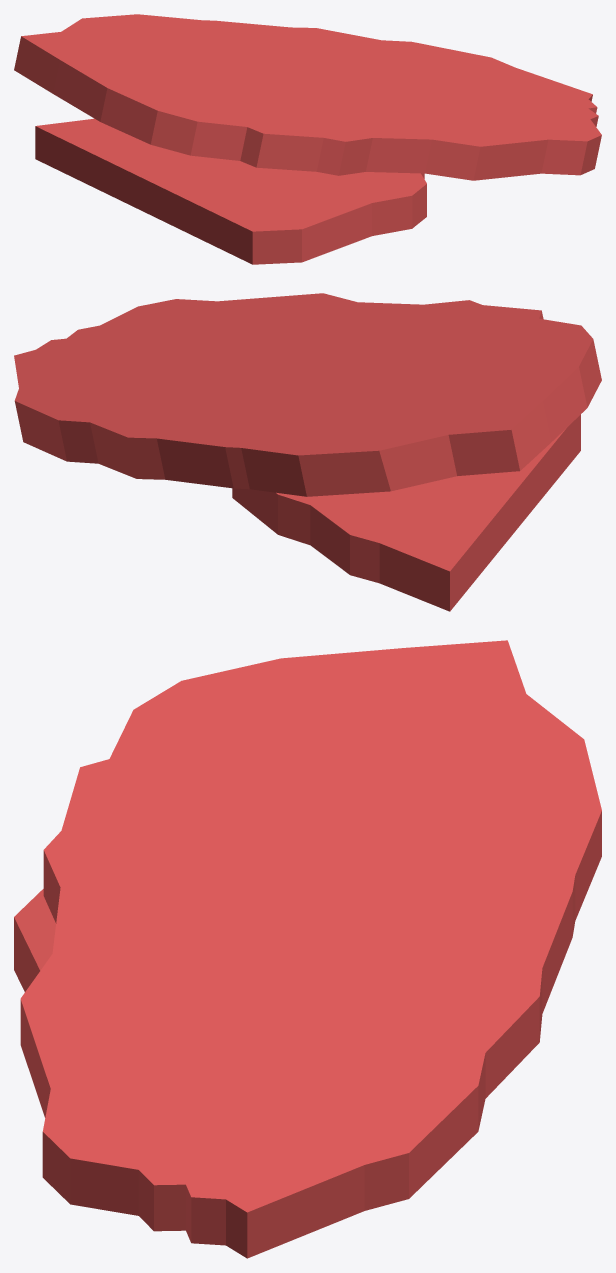
Rendered from Beef.fbx.
3 renders of one model, top to bottom at view 1: azimuth 30°, elevation 25°; view 2: azimuth 150°, elevation 25°; view 3: azimuth 270°, elevation 25°, orthographic. The views are drawn at different scales.
Visible parts, largest first — view 1: Cube, Cube.001; view 2: Cube, Cube.001; view 3: Cube, Cube.001.
Boxes of the visible parts, <box> form: Cube: <box>14,14,601,180</box>; Cube.001: <box>35,118,426,264</box>; Cube: <box>14,293,601,496</box>; Cube.001: <box>232,414,580,611</box>; Cube: <box>20,640,601,1258</box>; Cube.001: <box>14,889,55,991</box>.
Size of the model in its own units: 327 by 94.62 by 209.
